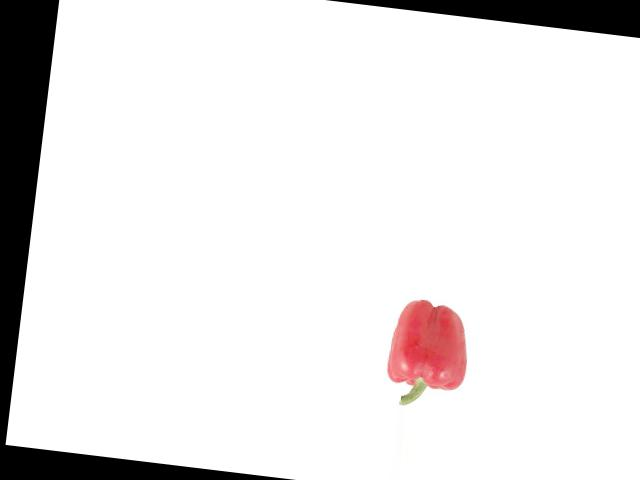bell_pepper: (379, 295, 485, 412)
